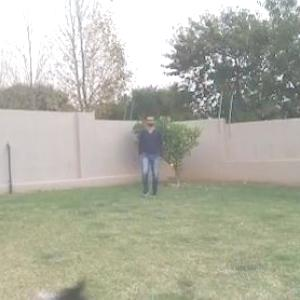follow: (138, 110, 162, 206)
